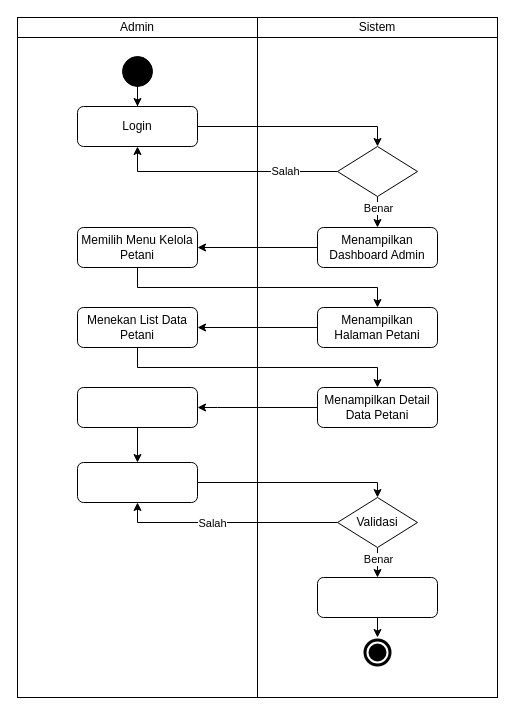
This 515x715 diagram has some shape labels left out. Here are the shapes that lost their labels. From the top down, the box of each, then its label:
(336, 146, 418, 196): Verifikasi
(76, 386, 198, 428): Menekan Tombol Tambah Lahan
(76, 462, 198, 502): Input Data Lahan
(316, 576, 438, 618): Menyimpan Perubahan Data
